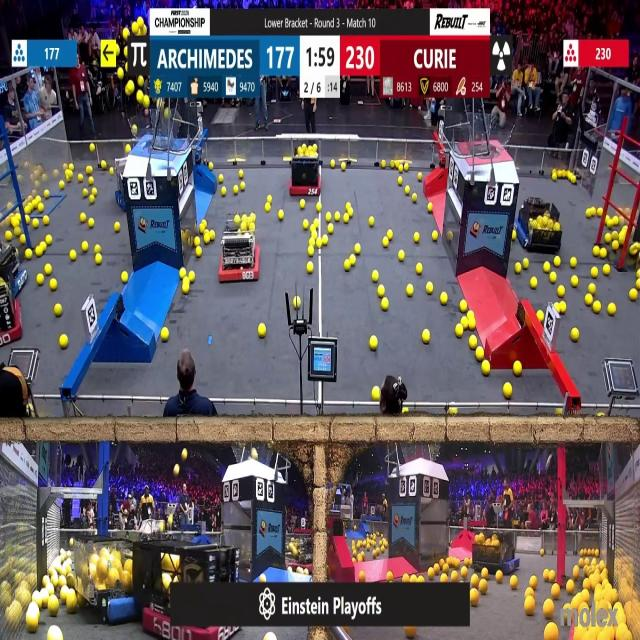ball_airborne: (127, 80, 135, 94), (137, 92, 144, 104), (116, 68, 123, 79), (143, 97, 149, 109), (122, 28, 128, 40), (252, 449, 258, 461), (138, 77, 144, 88), (174, 464, 180, 475), (182, 450, 188, 461), (133, 23, 139, 34), (160, 522, 166, 532), (165, 110, 171, 119), (132, 126, 138, 135), (114, 45, 118, 55), (123, 47, 127, 56)
ball_ground: (542, 600, 553, 618), (47, 598, 58, 616), (28, 616, 39, 634), (67, 594, 77, 613), (544, 625, 556, 640), (524, 598, 534, 615), (47, 629, 61, 640), (406, 626, 417, 640), (514, 360, 523, 376), (469, 590, 478, 606), (552, 586, 561, 600), (479, 581, 488, 595), (503, 383, 511, 398), (566, 581, 574, 596), (368, 338, 376, 352), (162, 327, 170, 341), (629, 289, 638, 301), (543, 570, 552, 582), (483, 360, 490, 375), (422, 328, 429, 342), (61, 336, 68, 350), (378, 285, 386, 297), (456, 324, 464, 336), (426, 282, 434, 294), (55, 305, 63, 317), (511, 576, 519, 588), (468, 338, 476, 350), (258, 324, 265, 337), (571, 328, 578, 341), (475, 348, 482, 361), (371, 387, 378, 400), (370, 272, 378, 283), (602, 266, 610, 277), (26, 249, 34, 260), (354, 243, 362, 254), (187, 272, 195, 283), (589, 283, 597, 294), (467, 319, 475, 330), (570, 256, 577, 268), (49, 279, 56, 291), (407, 284, 414, 296), (608, 304, 615, 316), (516, 264, 523, 276), (558, 285, 565, 297), (182, 282, 189, 294), (530, 575, 537, 587), (37, 274, 44, 286), (470, 574, 477, 586), (570, 277, 578, 287), (586, 294, 594, 304), (386, 570, 394, 580), (460, 566, 468, 576), (530, 278, 537, 289), (442, 292, 449, 303), (594, 303, 601, 314), (460, 302, 467, 313), (523, 260, 530, 271), (358, 570, 365, 581), (235, 214, 242, 225), (121, 272, 127, 284), (382, 300, 388, 312), (560, 302, 566, 314), (496, 570, 502, 582), (449, 410, 458, 418), (572, 566, 578, 578), (81, 242, 88, 252), (482, 568, 489, 578), (44, 266, 51, 276), (193, 237, 200, 247), (36, 247, 43, 257), (349, 255, 356, 265), (587, 208, 594, 218), (180, 269, 186, 280), (308, 264, 314, 275), (592, 268, 598, 279), (542, 263, 548, 274), (551, 273, 557, 284), (414, 233, 420, 244), (70, 250, 76, 261), (428, 568, 434, 579), (204, 235, 210, 246), (462, 318, 468, 329), (411, 574, 419, 582), (527, 588, 535, 596), (5, 233, 12, 242), (86, 165, 93, 174), (555, 256, 561, 266), (114, 221, 120, 231), (96, 254, 102, 264), (43, 215, 49, 225), (537, 312, 543, 322), (345, 262, 351, 272), (316, 203, 322, 213), (322, 236, 328, 246), (304, 220, 310, 230), (278, 210, 284, 220), (398, 250, 403, 262), (89, 218, 95, 228), (45, 236, 51, 246), (200, 222, 206, 232), (600, 248, 606, 258), (316, 238, 322, 248), (32, 218, 38, 228), (611, 241, 617, 251), (294, 296, 300, 306), (452, 570, 458, 580), (604, 234, 610, 244), (66, 170, 72, 180), (42, 576, 48, 586), (259, 574, 266, 582), (95, 245, 102, 253), (308, 239, 316, 246), (417, 265, 422, 276), (431, 233, 437, 242), (309, 247, 315, 256), (327, 223, 333, 232), (234, 185, 240, 194), (403, 185, 409, 194), (442, 573, 448, 582), (348, 208, 354, 217), (570, 175, 576, 184), (220, 187, 226, 196), (38, 204, 44, 213), (314, 219, 320, 228), (299, 200, 304, 210), (388, 231, 393, 241), (368, 216, 373, 226), (195, 247, 200, 257), (80, 213, 85, 223), (383, 238, 388, 248), (336, 212, 341, 222), (328, 213, 333, 223), (60, 181, 66, 189), (402, 573, 408, 581), (240, 182, 246, 190), (101, 162, 107, 170), (91, 144, 97, 152), (556, 410, 562, 418), (396, 177, 402, 185), (250, 213, 256, 221), (311, 232, 317, 240), (381, 162, 387, 170), (419, 574, 425, 582), (40, 242, 46, 250), (463, 558, 469, 566), (594, 247, 599, 256), (428, 204, 433, 213), (418, 173, 423, 182), (19, 236, 24, 245), (266, 204, 271, 213), (210, 232, 215, 241), (595, 208, 600, 217), (90, 195, 96, 202), (108, 168, 114, 175), (413, 192, 418, 200), (268, 193, 273, 201), (344, 214, 349, 222), (90, 176, 95, 184), (342, 162, 347, 170), (82, 188, 87, 196), (44, 189, 49, 197), (93, 187, 98, 195), (467, 312, 472, 320), (398, 165, 403, 173), (346, 202, 351, 210), (240, 170, 244, 179), (330, 161, 334, 170), (406, 162, 410, 171), (513, 232, 517, 241), (218, 175, 223, 182), (78, 175, 83, 182), (636, 280, 640, 288), (553, 174, 557, 182), (69, 162, 74, 168), (209, 164, 213, 171), (540, 550, 544, 557), (27, 216, 31, 223), (306, 569, 310, 576), (636, 272, 640, 279)
goal: (460, 117, 518, 158), (129, 114, 186, 152)
robot_blue: (65, 536, 134, 624), (513, 197, 561, 254), (472, 528, 518, 574)
robot_red: (146, 550, 240, 640), (220, 218, 262, 281), (0, 259, 21, 348), (290, 143, 321, 198), (283, 534, 313, 572)
